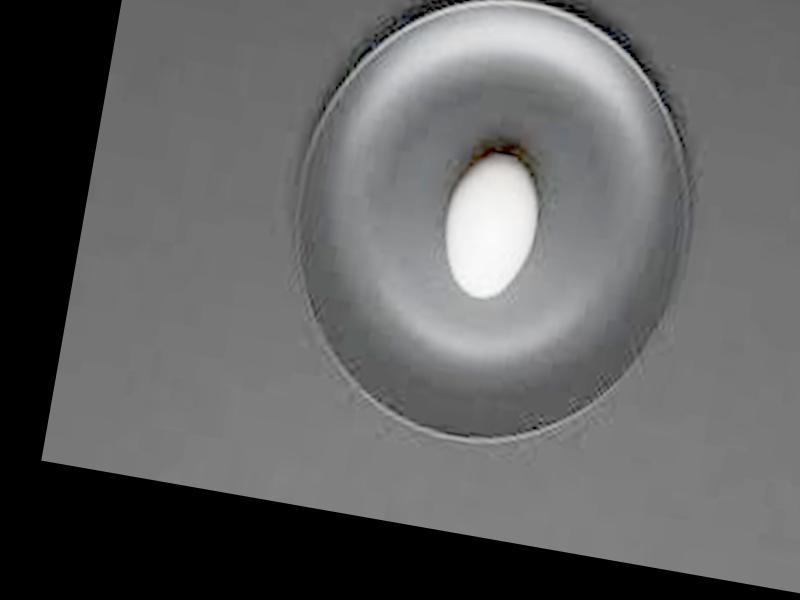Eggs: (433, 150, 546, 304)
